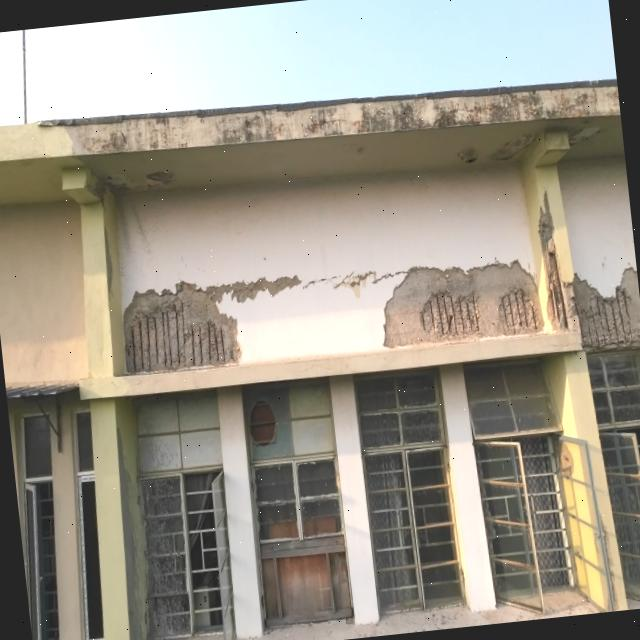Spalling: (384, 260, 542, 348), (124, 290, 240, 372), (540, 195, 578, 329), (572, 275, 640, 348), (539, 192, 568, 328)
pollution -moisture induced blackening: (0, 79, 620, 155)
